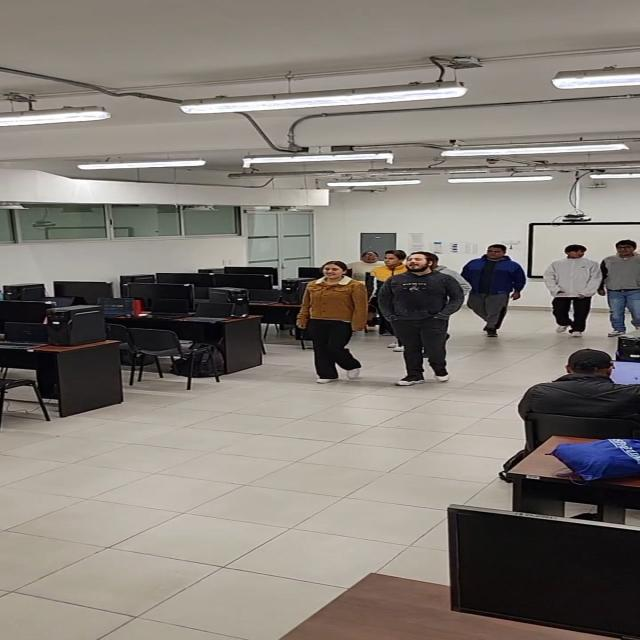Persona: (380, 254, 459, 365), (301, 259, 365, 366), (548, 243, 602, 332), (472, 244, 517, 326), (602, 240, 640, 332), (377, 246, 408, 278), (347, 242, 381, 268)
